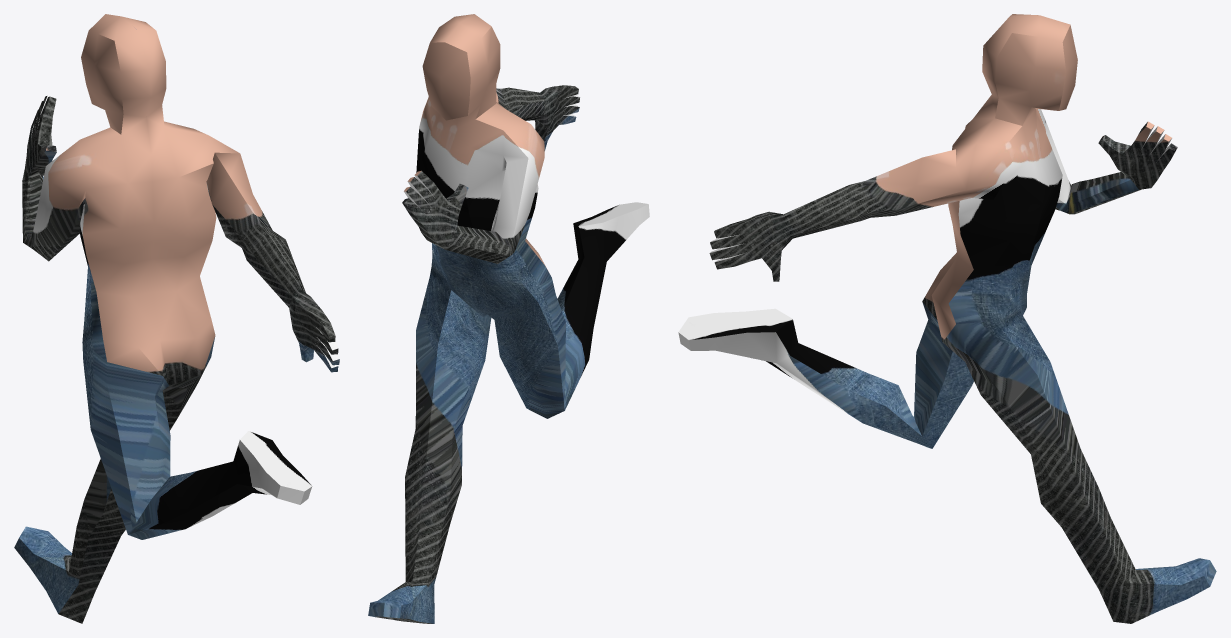
File: human16.obj
3 renders of one model, left to right at view 1: azimuth 30°, elevation 25°; view 2: azimuth 150°, elevation 25°; view 3: azimuth 270°, elevation 25°, orthographic. The views are drawn at different scales.
Visible parts, largest first — view 1: HumanMale; view 2: HumanMale; view 3: HumanMale.
Boxes of the visible parts, x1,y1,x2,y2 form: HumanMale: [14, 14, 339, 623]; HumanMale: [368, 14, 649, 623]; HumanMale: [678, 14, 1216, 623].
Bounding box in the file's own units: 0.476 × 1.8 × 1.45.
1 material, 1 textured.
